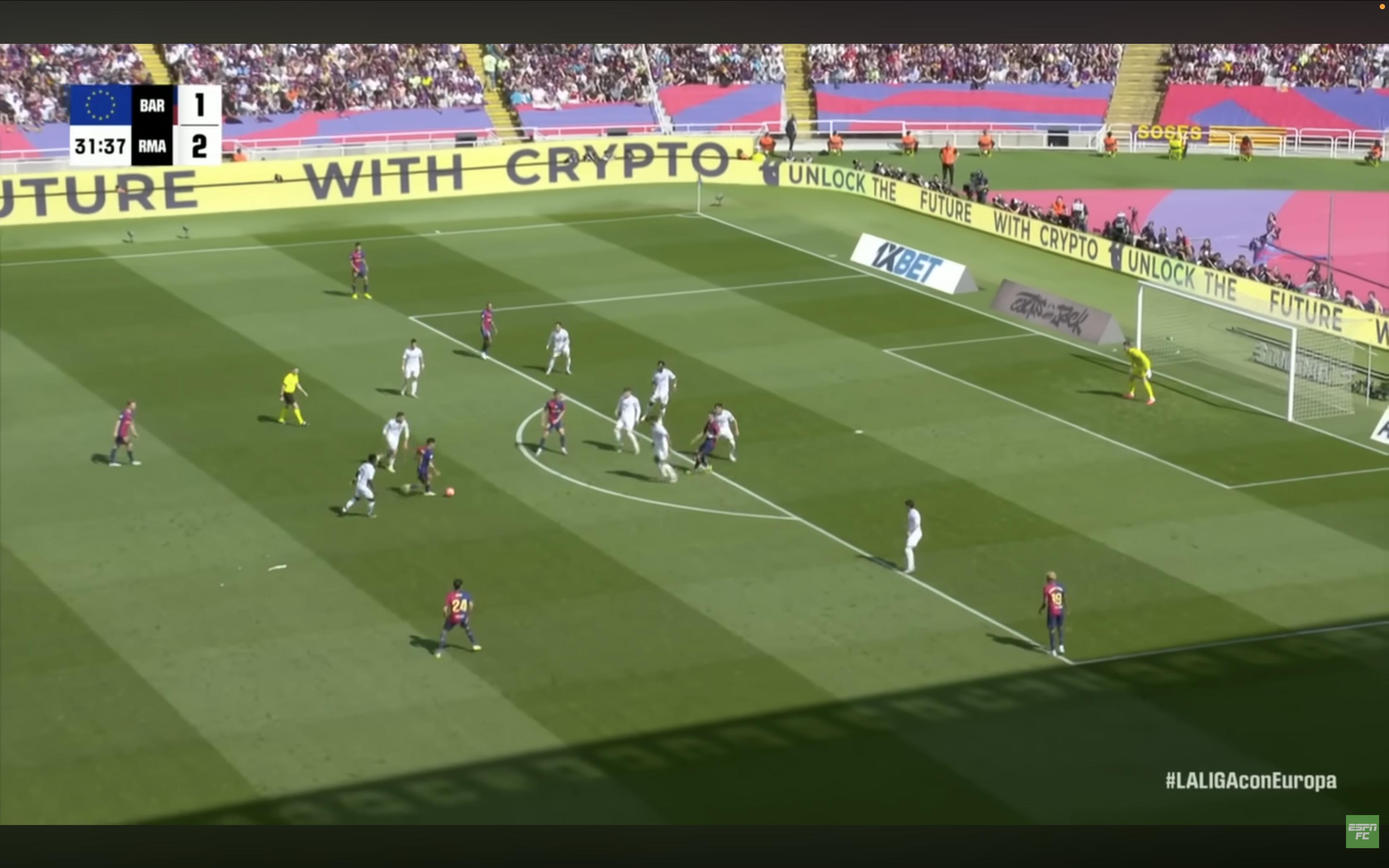ball: (444, 486, 456, 498)
goalkeeper: (1123, 340, 1155, 405)
player: (434, 579, 481, 658), (339, 455, 377, 517), (1039, 572, 1066, 656), (403, 438, 440, 496), (535, 391, 567, 455), (648, 415, 678, 483), (109, 401, 140, 466), (613, 389, 641, 454), (381, 412, 409, 472), (691, 413, 719, 472), (647, 361, 676, 415), (714, 403, 739, 462), (400, 339, 424, 398), (903, 500, 922, 574), (545, 323, 571, 375), (351, 243, 372, 299), (480, 303, 496, 359)
referee: (278, 367, 307, 424)
